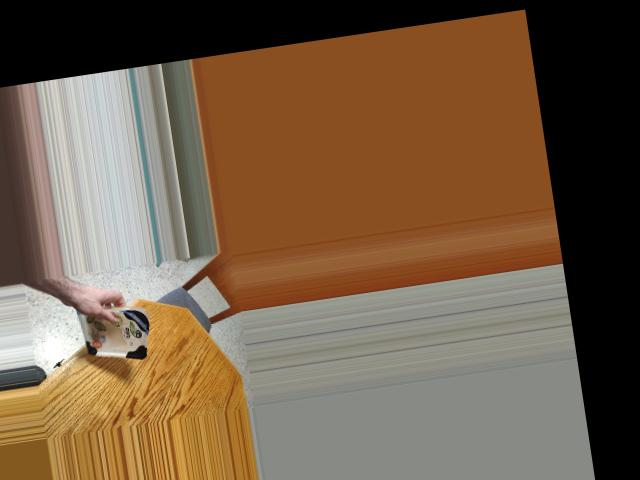cheese: (64, 297, 156, 365)
